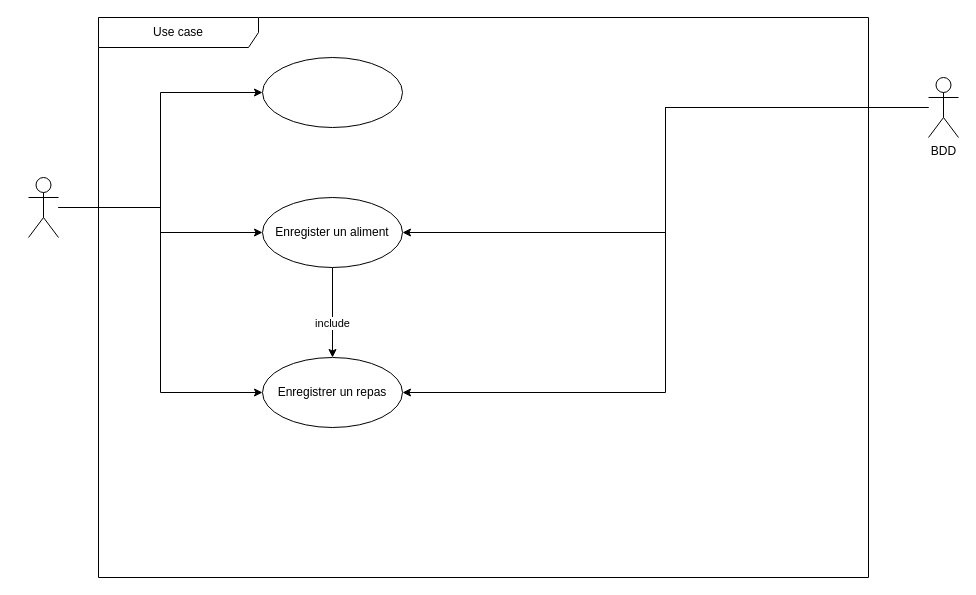
Some shapes in this 976 by 595 pixel diagram are drawn without their labels. Each missing label, with the centre of its shape:
Consulter son suivi calorique: pixel 332 92
Utilisateur: pixel 43 207
